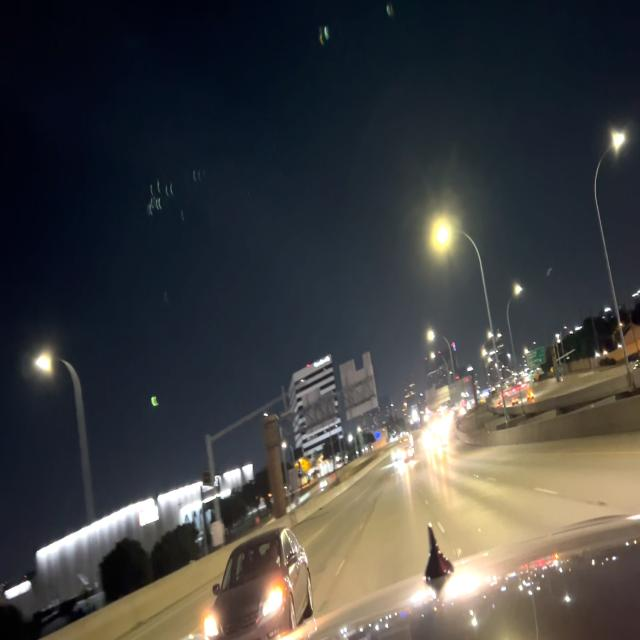back-of-sign: (340, 353, 380, 421), (302, 389, 336, 431)
